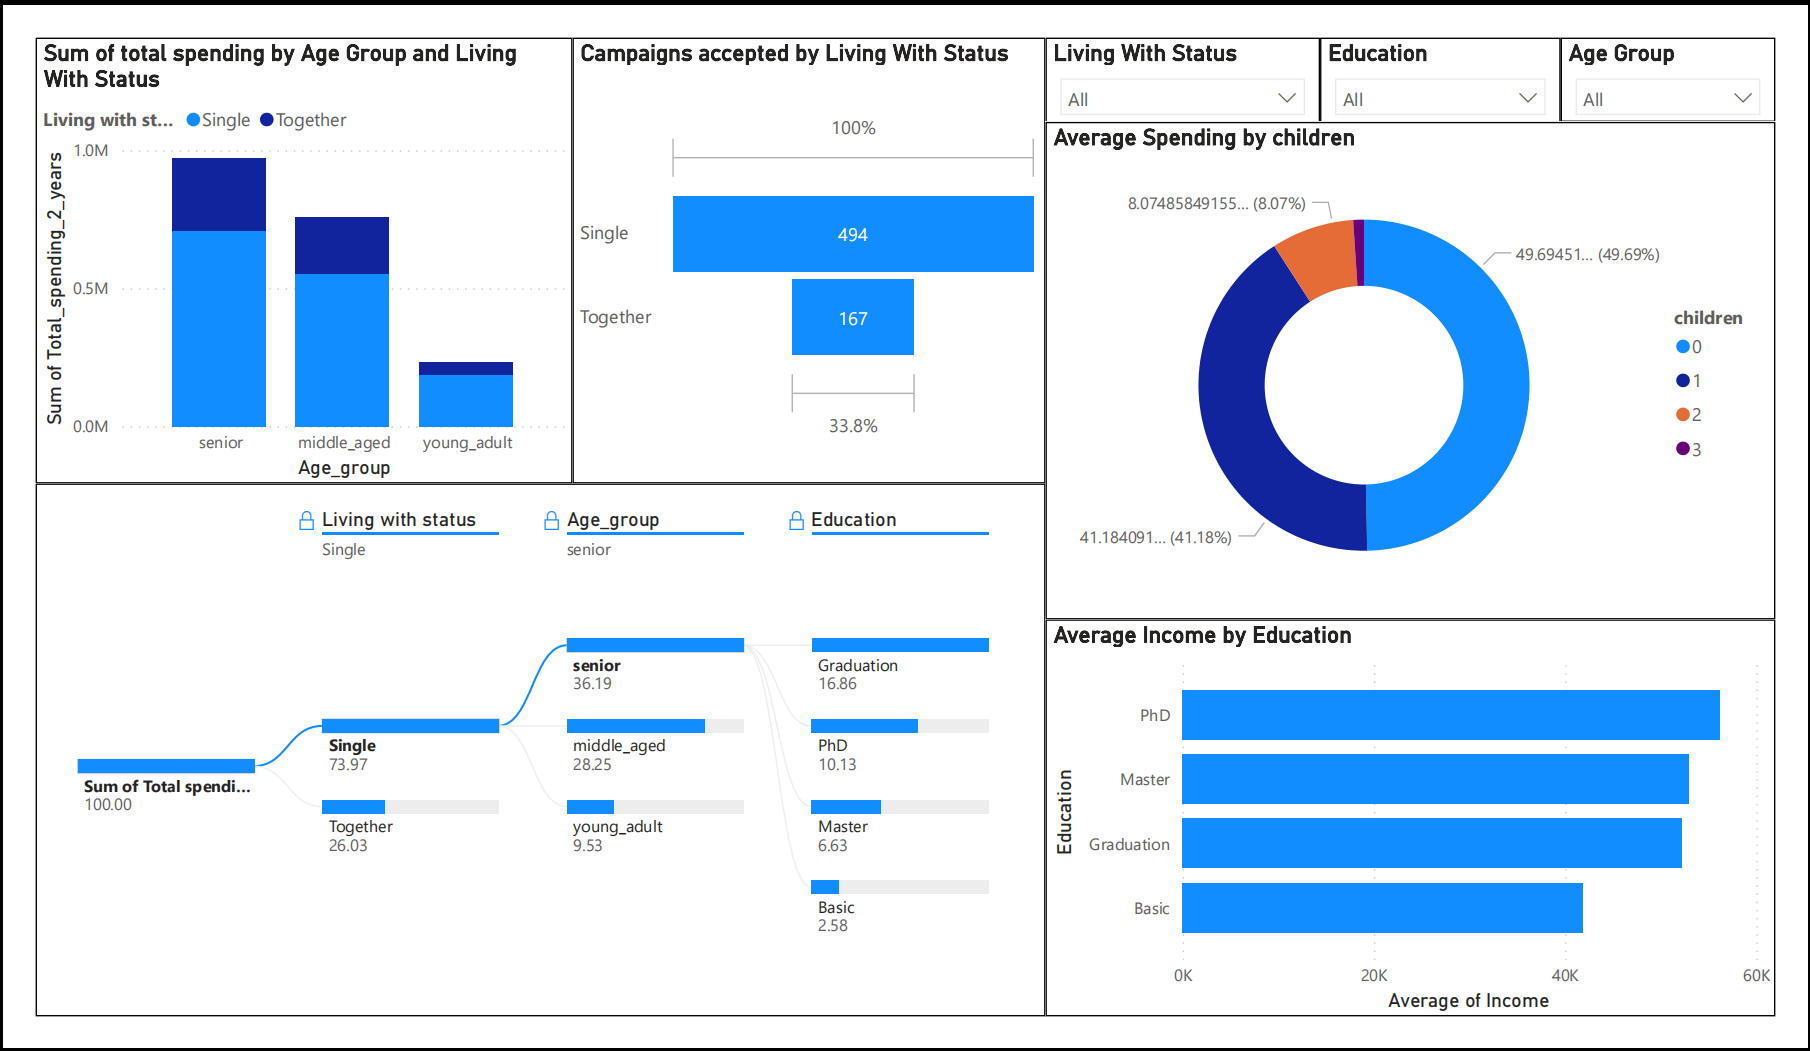

The page's visual inventory and layout, read from the dashboard file:
{"tool":"powerbi","page":{"name":"Page 1","canvas":[1280,720],"ordinal":0},"visuals":[{"type":"lineStackedColumnComboChart","title":"Sum of total spending by Age Group and Living With Status","fields":{"Category":["marketing_campaign.Age_group"],"Y":["Sum(marketing_campaign.Total_spending_2_years)"],"Series":["marketing_campaign.Living with status"]},"box":[0,0,395,328.3],"z":0},{"type":"funnel","title":"Campaigns accepted by Living With Status","fields":{"Y":["Sum(marketing_campaign.Campaigns_accepted)"],"Category":["marketing_campaign.Living with status"]},"box":[395,0,348.3,328.3],"z":1000},{"type":"decompositionTreeVisual","fields":{"ExplainBy":["marketing_campaign.Living with status","marketing_campaign.Age_group","marketing_campaign.Education"],"Analyze":["Sum(marketing_campaign.Total spending percentage)"]},"box":[0,328.3,743.3,391.7],"z":2000},{"type":"slicer","title":"Living With Status","fields":{"Values":["marketing_campaign.Living with status"]},"box":[743.3,0,201.7,65],"z":3000},{"type":"slicer","title":"Education","fields":{"Values":["marketing_campaign.Education"]},"box":[945,0,176.7,65],"z":4000},{"type":"clusteredBarChart","title":"Average Income by Education","fields":{"Y":["Avg(marketing_campaign.Income)"],"Category":["marketing_campaign.Education"]},"box":[743.3,428.3,536.7,291.7],"z":5000},{"type":"slicer","title":"Age Group","fields":{"Values":["marketing_campaign.Age_group"]},"box":[1121.7,0,158.3,61.7],"z":6000},{"type":"donutChart","title":"Average Spending by children","fields":{"Y":["Sum(marketing_campaign.Total spending percentage)"],"Category":["marketing_campaign.children"]},"box":[743.3,61.7,536.7,366.7],"z":7000}]}

Visuals, with their boxes in screenshot pixels (x1, y1, x2, y2):
"Sum of total spending by Age Group and Living With Status" lineStackedColumnComboChart: pyautogui.locateOnScreen(42, 38, 574, 479)
"Campaigns accepted by Living With Status" funnel: pyautogui.locateOnScreen(574, 38, 1042, 479)
decompositionTreeVisual - marketing_campaign.Living with status x marketing_campaign.Age_group: pyautogui.locateOnScreen(42, 479, 1042, 1006)
"Living With Status" slicer: pyautogui.locateOnScreen(1042, 38, 1314, 125)
"Education" slicer: pyautogui.locateOnScreen(1314, 38, 1551, 125)
"Average Income by Education" clusteredBarChart: pyautogui.locateOnScreen(1042, 614, 1764, 1006)
"Age Group" slicer: pyautogui.locateOnScreen(1551, 38, 1764, 121)
"Average Spending by children" donutChart: pyautogui.locateOnScreen(1042, 121, 1764, 614)
